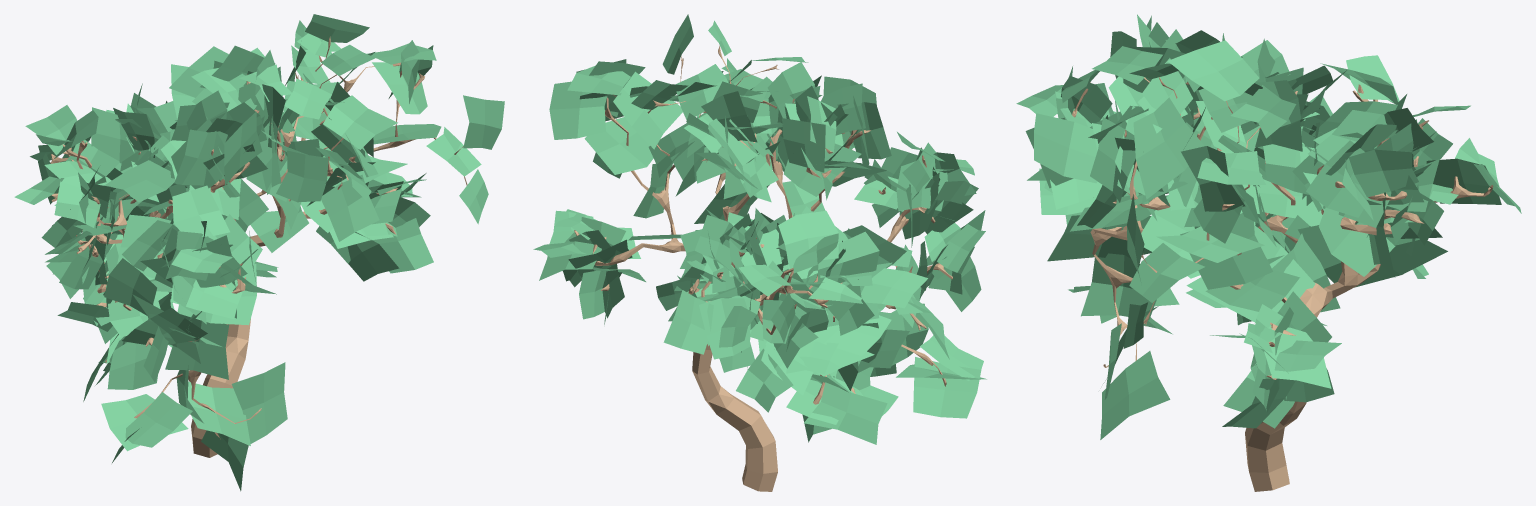
The model's file is tree1.fbx.
3 views of the same model, side by side, from view 1: azimuth 30°, elevation 25°; view 2: azimuth 150°, elevation 25°; view 3: azimuth 270°, elevation 25° (orthographic). The views are drawn at different scales.
Visible parts, largest first — view 1: tree01mesh; view 2: tree01mesh; view 3: tree01mesh.
Part boxes in pixels (bbox=[...]): tree01mesh: bbox=[14, 14, 504, 491]; tree01mesh: bbox=[533, 14, 986, 491]; tree01mesh: bbox=[1016, 14, 1521, 491].
Size of the model in its own units: 218 by 223 by 205.
